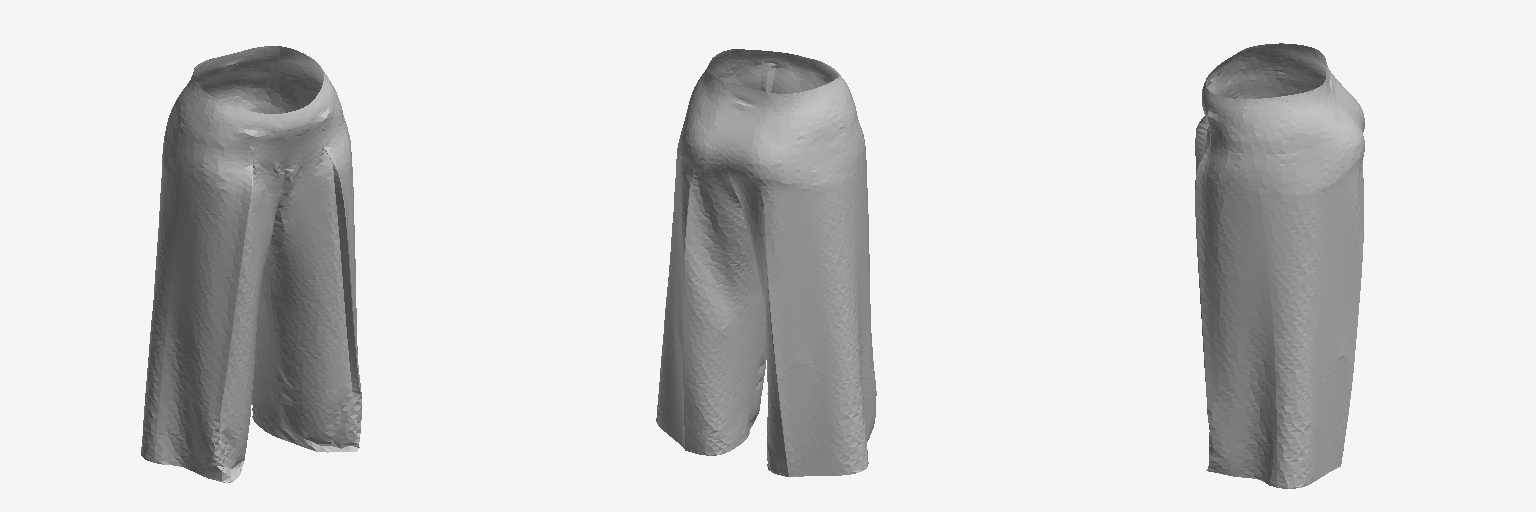
Rendered from Large_Tall.obj.
3 renders of one model, left to right at view 1: azimuth 30°, elevation 25°; view 2: azimuth 150°, elevation 25°; view 3: azimuth 270°, elevation 25°, orthographic.
Visible parts, largest first — view 1: changku.004; view 2: changku.004; view 3: changku.004.
Boxes of the visible parts, box(x1,y1,x2,y2) form: changku.004: box(141, 46, 361, 483); changku.004: box(656, 49, 876, 476); changku.004: box(1195, 43, 1364, 488).
Bounding box in the file's own units: 0.5873 × 0.9991 × 0.4118.